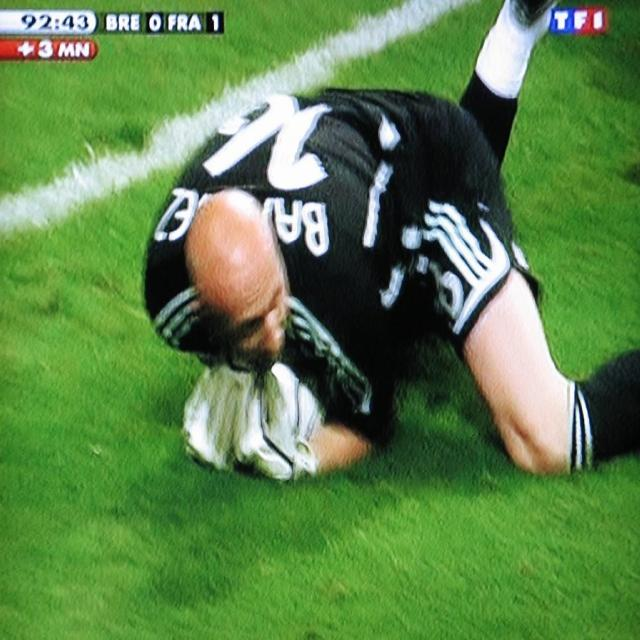Ball: (271, 362, 327, 426)
